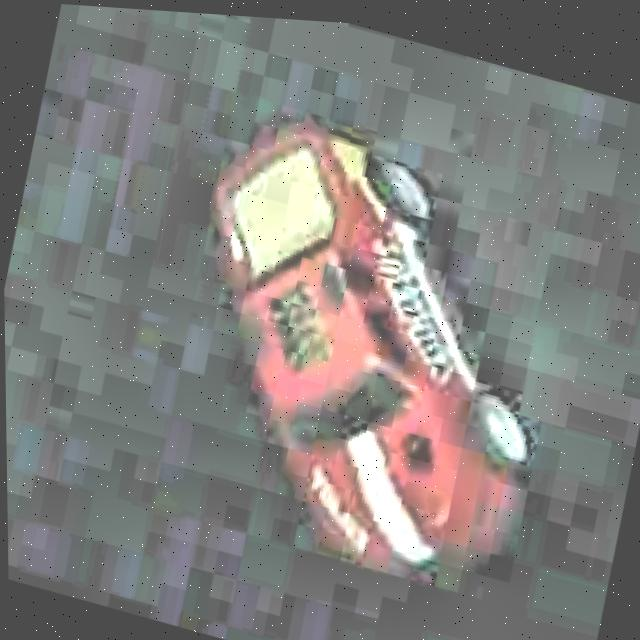car: (133, 88, 609, 620)
